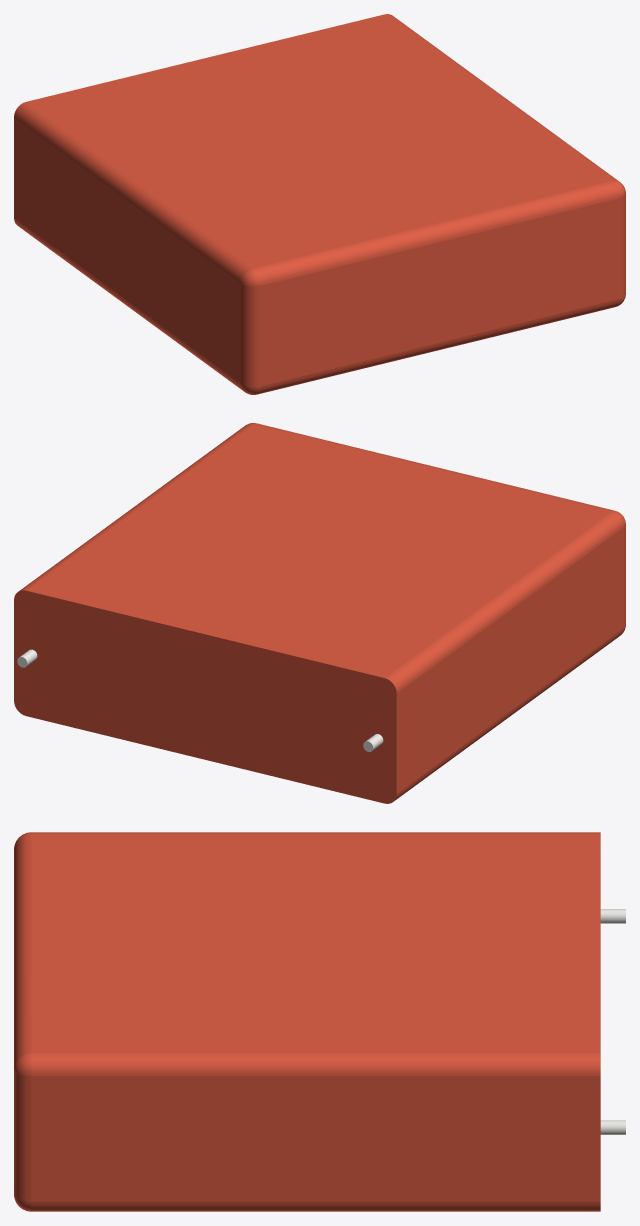
File: C_Rect_L41.5mm_W13.0mm_P37.50mm_MKS4.glb
The picture shows the model from 3 angles, top to bottom: view 1: azimuth 30°, elevation 25°; view 2: azimuth 150°, elevation 25°; view 3: azimuth 270°, elevation 25°; orthographic projection. The views are drawn at different scales.
Visible parts, largest first — view 1: Shape_IndexedFaceSet.009, Shape_IndexedFaceSet.007, Shape_IndexedFaceSet, Shape_IndexedFaceSet.016, Shape_IndexedFaceSet.004, Shape_IndexedFaceSet.015, Shape_IndexedFaceSet.002, Shape_IndexedFaceSet.001, Shape_IndexedFaceSet.011, Shape_IndexedFaceSet.017; view 2: Shape_IndexedFaceSet.009, Shape_IndexedFaceSet.003, Shape_IndexedFaceSet, Shape_IndexedFaceSet.004, Shape_IndexedFaceSet.001, Shape_IndexedFaceSet.011, Shape_IndexedFaceSet.016; view 3: Shape_IndexedFaceSet.009, Shape_IndexedFaceSet.012, Shape_IndexedFaceSet.011, Shape_IndexedFaceSet.010, Shape_IndexedFaceSet.016, Shape_IndexedFaceSet.017, Shape_IndexedFaceSet.004.
Boxes of the visible parts, x1=… form: Shape_IndexedFaceSet.009: x1=26, y1=14, x2=611, y2=268; Shape_IndexedFaceSet.007: x1=260, y1=198, x2=618, y2=386; Shape_IndexedFaceSet: x1=14, y1=117, x2=241, y2=383; Shape_IndexedFaceSet.016: x1=254, y1=181, x2=618, y2=285; Shape_IndexedFaceSet.004: x1=14, y1=102, x2=252, y2=283; Shape_IndexedFaceSet.015: x1=257, y1=299, x2=618, y2=394; Shape_IndexedFaceSet.002: x1=241, y1=284, x2=260, y2=386; Shape_IndexedFaceSet.001: x1=14, y1=218, x2=243, y2=391; Shape_IndexedFaceSet.011: x1=385, y1=14, x2=618, y2=181; Shape_IndexedFaceSet.017: x1=619, y1=194, x2=625, y2=298; Shape_IndexedFaceSet.009: x1=26, y1=424, x2=611, y2=677; Shape_IndexedFaceSet.003: x1=14, y1=590, x2=396, y2=803; Shape_IndexedFaceSet: x1=396, y1=527, x2=624, y2=793; Shape_IndexedFaceSet.004: x1=385, y1=511, x2=623, y2=693; Shape_IndexedFaceSet.001: x1=393, y1=628, x2=623, y2=801; Shape_IndexedFaceSet.011: x1=19, y1=424, x2=252, y2=590; Shape_IndexedFaceSet.016: x1=253, y1=423, x2=613, y2=511; Shape_IndexedFaceSet.009: x1=31, y1=834, x2=600, y2=1052; Shape_IndexedFaceSet.012: x1=31, y1=1076, x2=600, y2=1201; Shape_IndexedFaceSet.011: x1=31, y1=1053, x2=600, y2=1075; Shape_IndexedFaceSet.010: x1=31, y1=1201, x2=600, y2=1211; Shape_IndexedFaceSet.016: x1=14, y1=834, x2=31, y2=1066; Shape_IndexedFaceSet.017: x1=14, y1=1069, x2=31, y2=1201; Shape_IndexedFaceSet.004: x1=31, y1=832, x2=600, y2=833.
Bounding box in the file's own units: 16.34 × 5.12 × 18.07.
